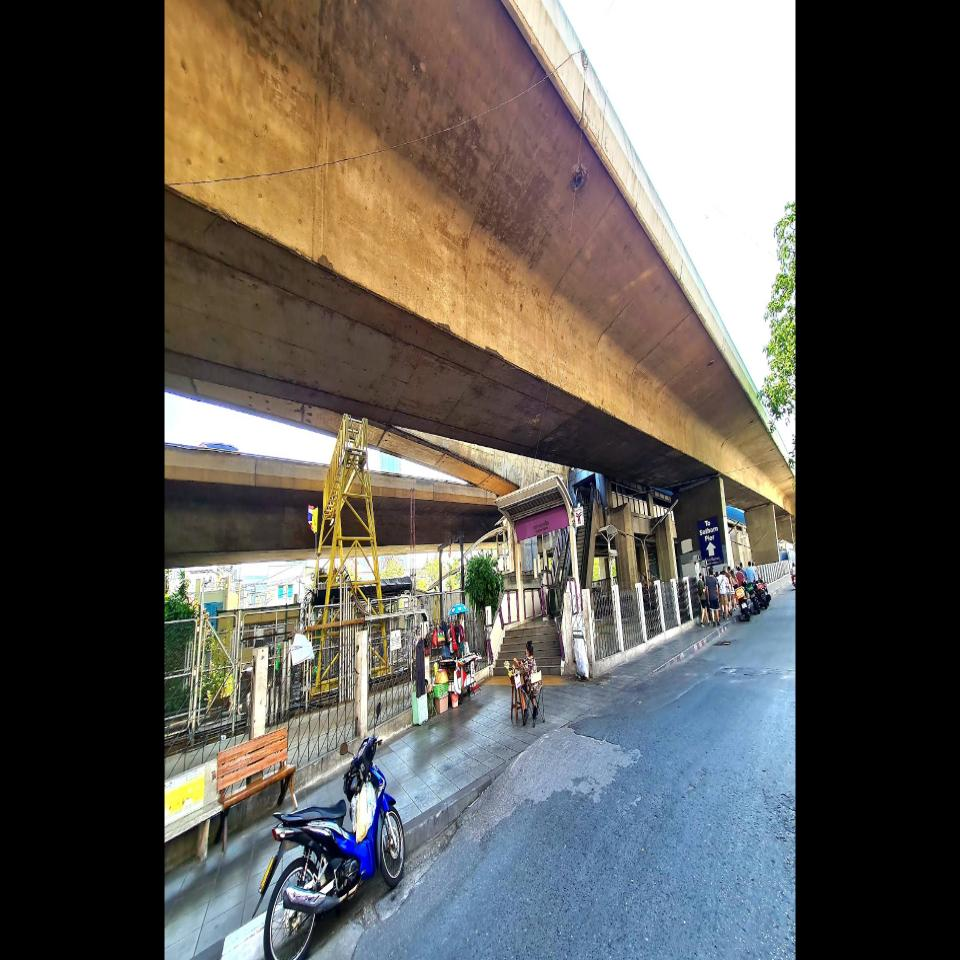Saphan Taksin: (515, 506, 583, 540), (514, 508, 570, 539)
